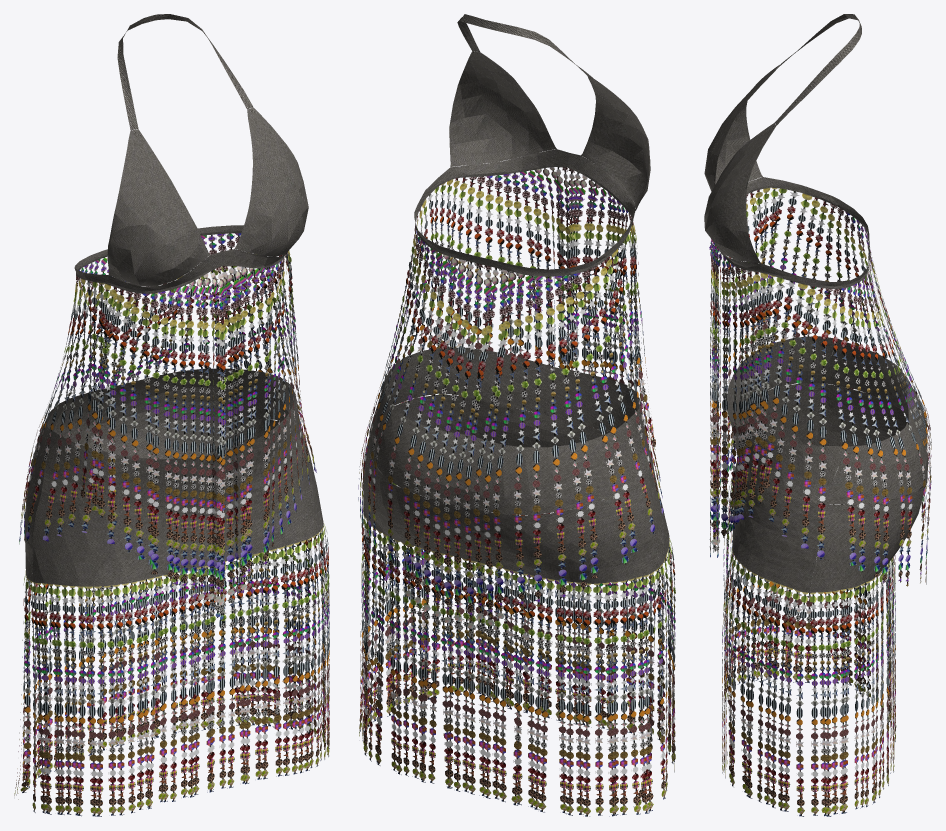
The model's file is elvs-fringe-hippy-dress.glb.
3 views of the same model, side by side, from view 1: azimuth 30°, elevation 25°; view 2: azimuth 150°, elevation 25°; view 3: azimuth 270°, elevation 25° (orthographic). The views are drawn at different scales.
Parts seen in each view (by area): view 1: fringe hippy dress; view 2: fringe hippy dress; view 3: fringe hippy dress.
Boxes of the visible parts, bbox=[...] form: fringe hippy dress: bbox=[14, 14, 329, 816]; fringe hippy dress: bbox=[358, 14, 675, 816]; fringe hippy dress: bbox=[704, 14, 931, 816].
Bounding box in the file's own units: 41.22 × 101 × 28.58.
1 material, 1 textured.
